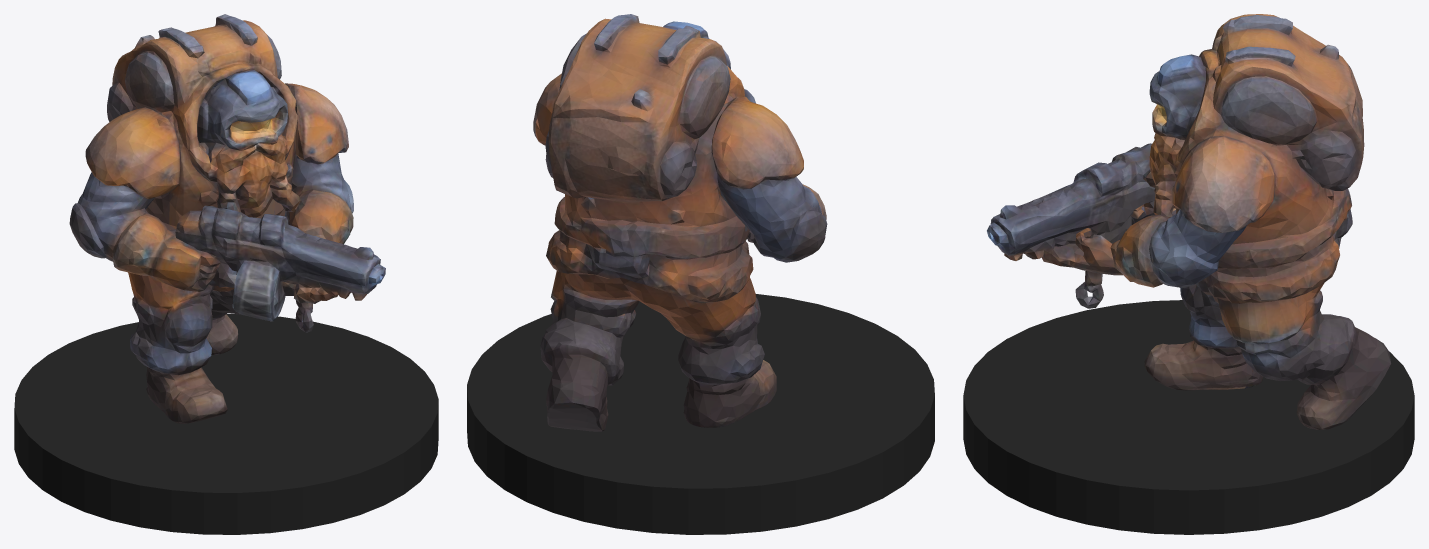
Rendered from hk-warrior-c.glb.
3 views of the same model, side by side, from view 1: azimuth 30°, elevation 25°; view 2: azimuth 150°, elevation 25°; view 3: azimuth 270°, elevation 25° (orthographic). The views are drawn at different scales.
Visible parts, largest first — view 1: figure, base; view 2: figure, base; view 3: figure, base.
Part boxes in pixels (bbox=[...]): figure: bbox=[69, 14, 385, 423]; base: bbox=[14, 314, 438, 534]; figure: bbox=[533, 14, 827, 431]; base: bbox=[467, 294, 934, 534]; figure: bbox=[987, 14, 1391, 429]; base: bbox=[963, 300, 1414, 534].
Size of the model in its own units: 1.1 by 1.12 by 1.1.
2 materials, 1 textured.
